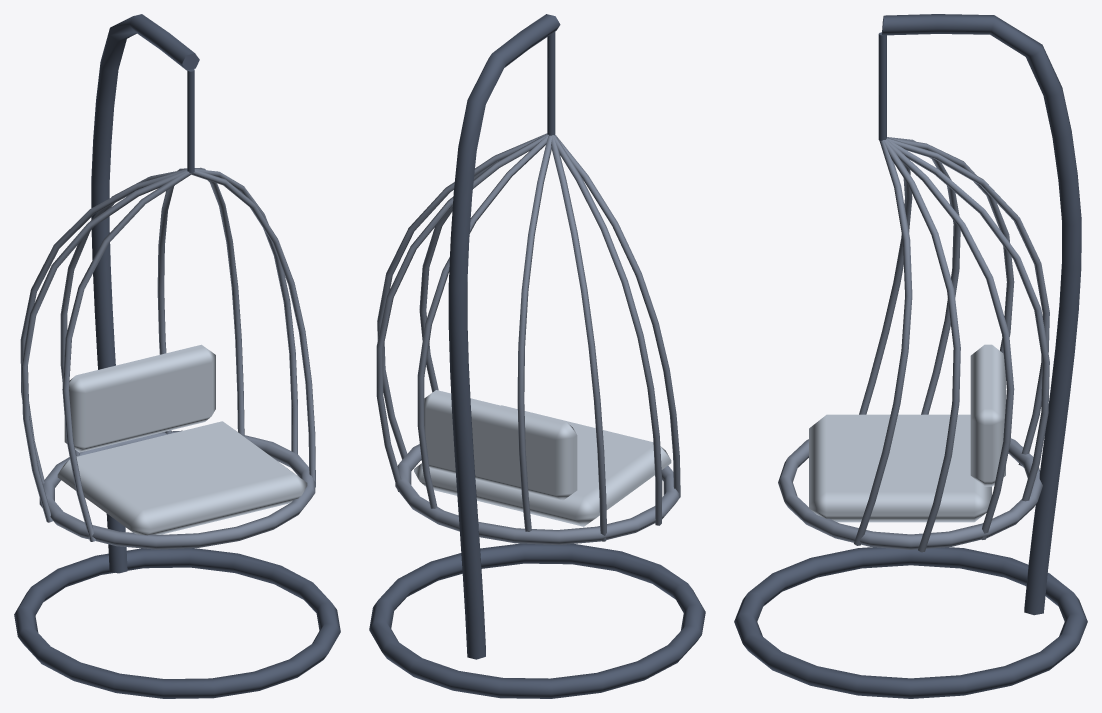
Rendered from 鸟巢吊椅.glb.
3 views of the same model, side by side, from view 1: azimuth 30°, elevation 25°; view 2: azimuth 150°, elevation 25°; view 3: azimuth 270°, elevation 25° (orthographic). The views are drawn at different scales.
Visible parts, largest first — view 1: garden-hanging-chair; view 2: garden-hanging-chair; view 3: garden-hanging-chair.
Boxes of the visible parts, x1,y1,x2,y2 form: garden-hanging-chair: [14, 14, 340, 698]; garden-hanging-chair: [369, 14, 705, 698]; garden-hanging-chair: [734, 14, 1087, 698].
Bounding box in the file's own units: 1.1 × 2.2 × 1.15.
